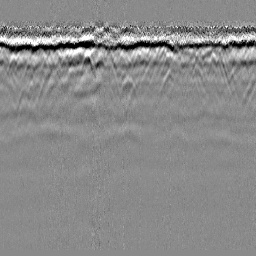cavity: (119, 73, 136, 98)
